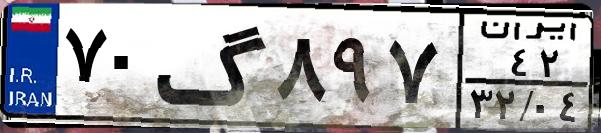0: (110, 28, 156, 98), (535, 70, 560, 125)
2: (537, 27, 568, 80), (495, 70, 520, 125)
3: (470, 70, 495, 125)
4: (560, 70, 590, 125), (508, 27, 537, 80)
7: (385, 28, 445, 110), (57, 26, 110, 100)
8: (270, 28, 330, 110)
9: (330, 28, 385, 110)
گ: (156, 12, 270, 120)
